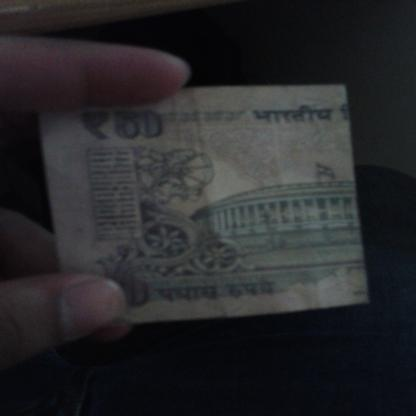Old50Back: (43, 83, 371, 322)
